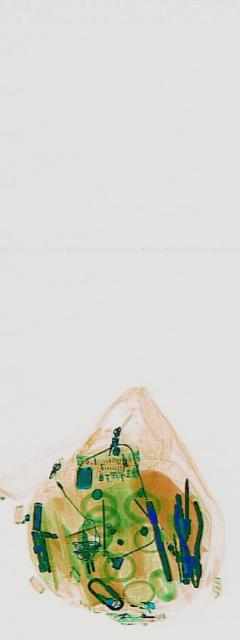Pliers: (171, 492, 206, 594)
